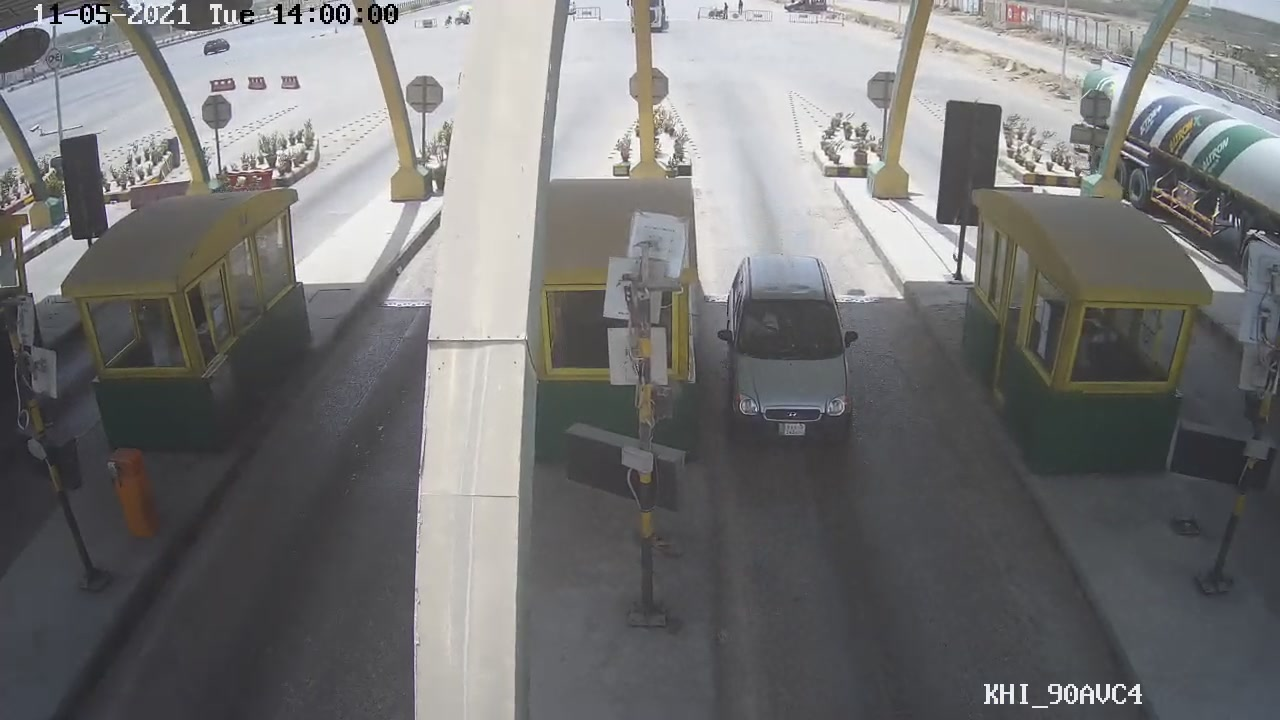F1: (717, 238, 861, 446)
